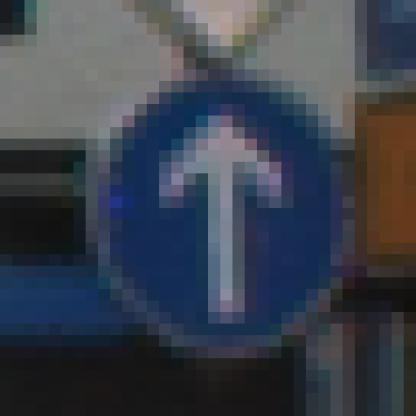AheadOnly: (74, 71, 356, 360)
